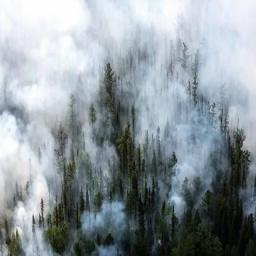Heavy smoke: (2, 2, 98, 116), (107, 1, 255, 57)
Low smoke: (3, 119, 69, 256), (160, 118, 229, 215), (123, 61, 195, 144), (73, 119, 120, 191), (78, 199, 136, 253)
